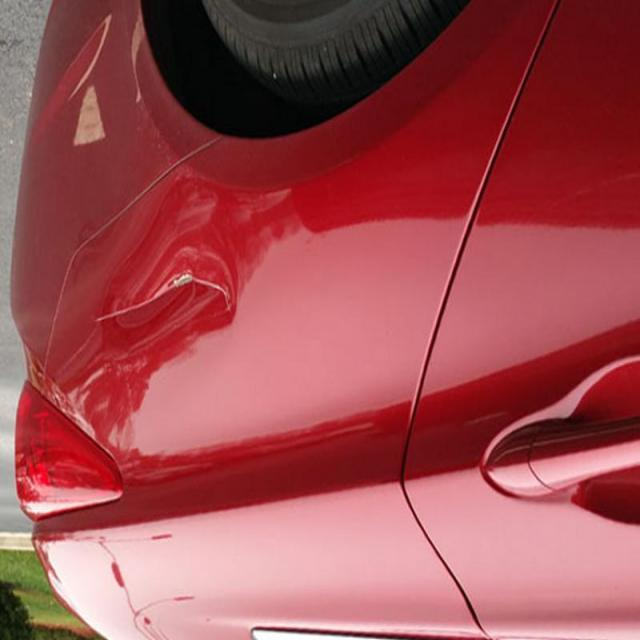dent: (85, 252, 240, 363)
